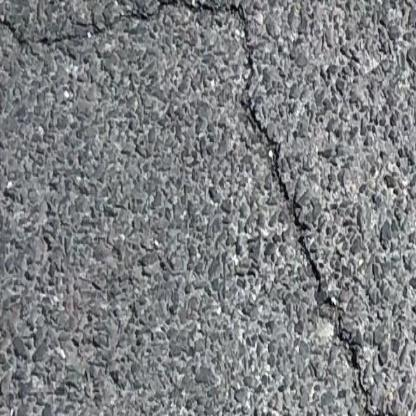Cracks: (116, 0, 295, 209), (295, 224, 407, 416), (0, 3, 75, 49)
